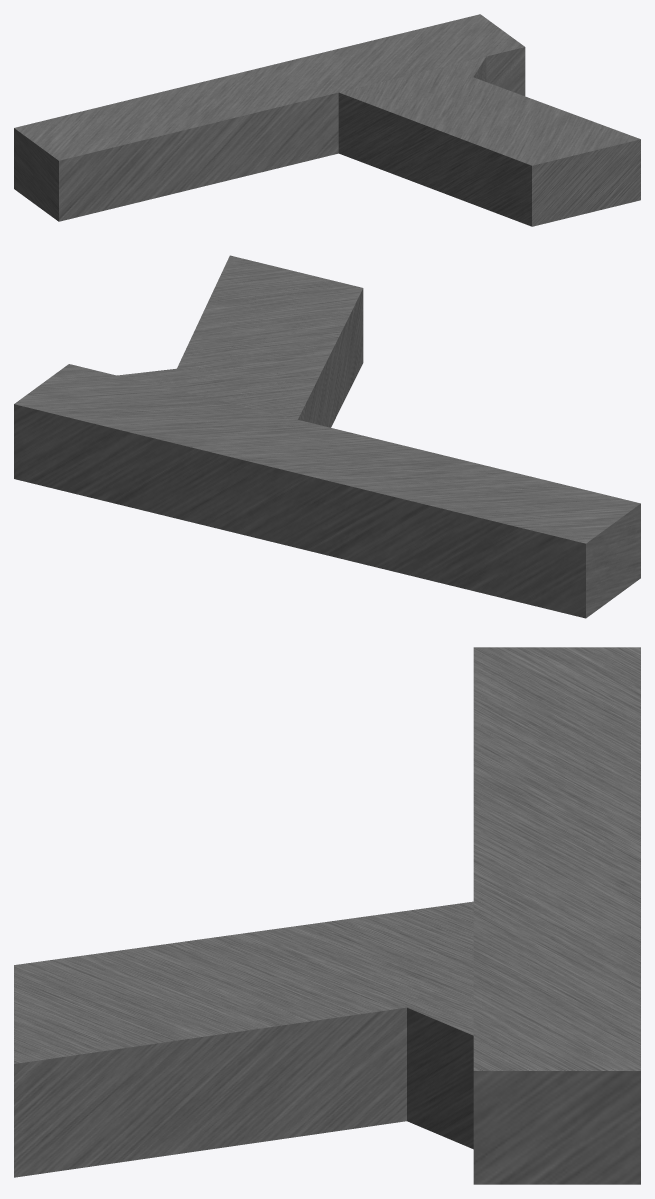
File: gun1.fbx
3 renders of one model, top to bottom at view 1: azimuth 30°, elevation 25°; view 2: azimuth 150°, elevation 25°; view 3: azimuth 270°, elevation 25°, orthographic. The views are drawn at different scales.
Parts seen in each view (by area): view 1: Cube.001; view 2: Cube.001; view 3: Cube.001.
Boxes of the visible parts, <box> form: Cube.001: <box>14,14,640,226</box>; Cube.001: <box>14,255,640,618</box>; Cube.001: <box>14,647,640,1184</box>.
Size of the model in its own units: 600 by 75 by 375.
